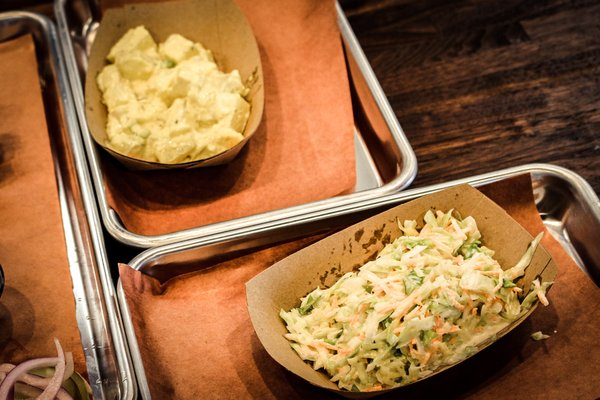salad: (530, 168, 600, 291)
sushi: (243, 179, 573, 395), (80, 2, 265, 172)
